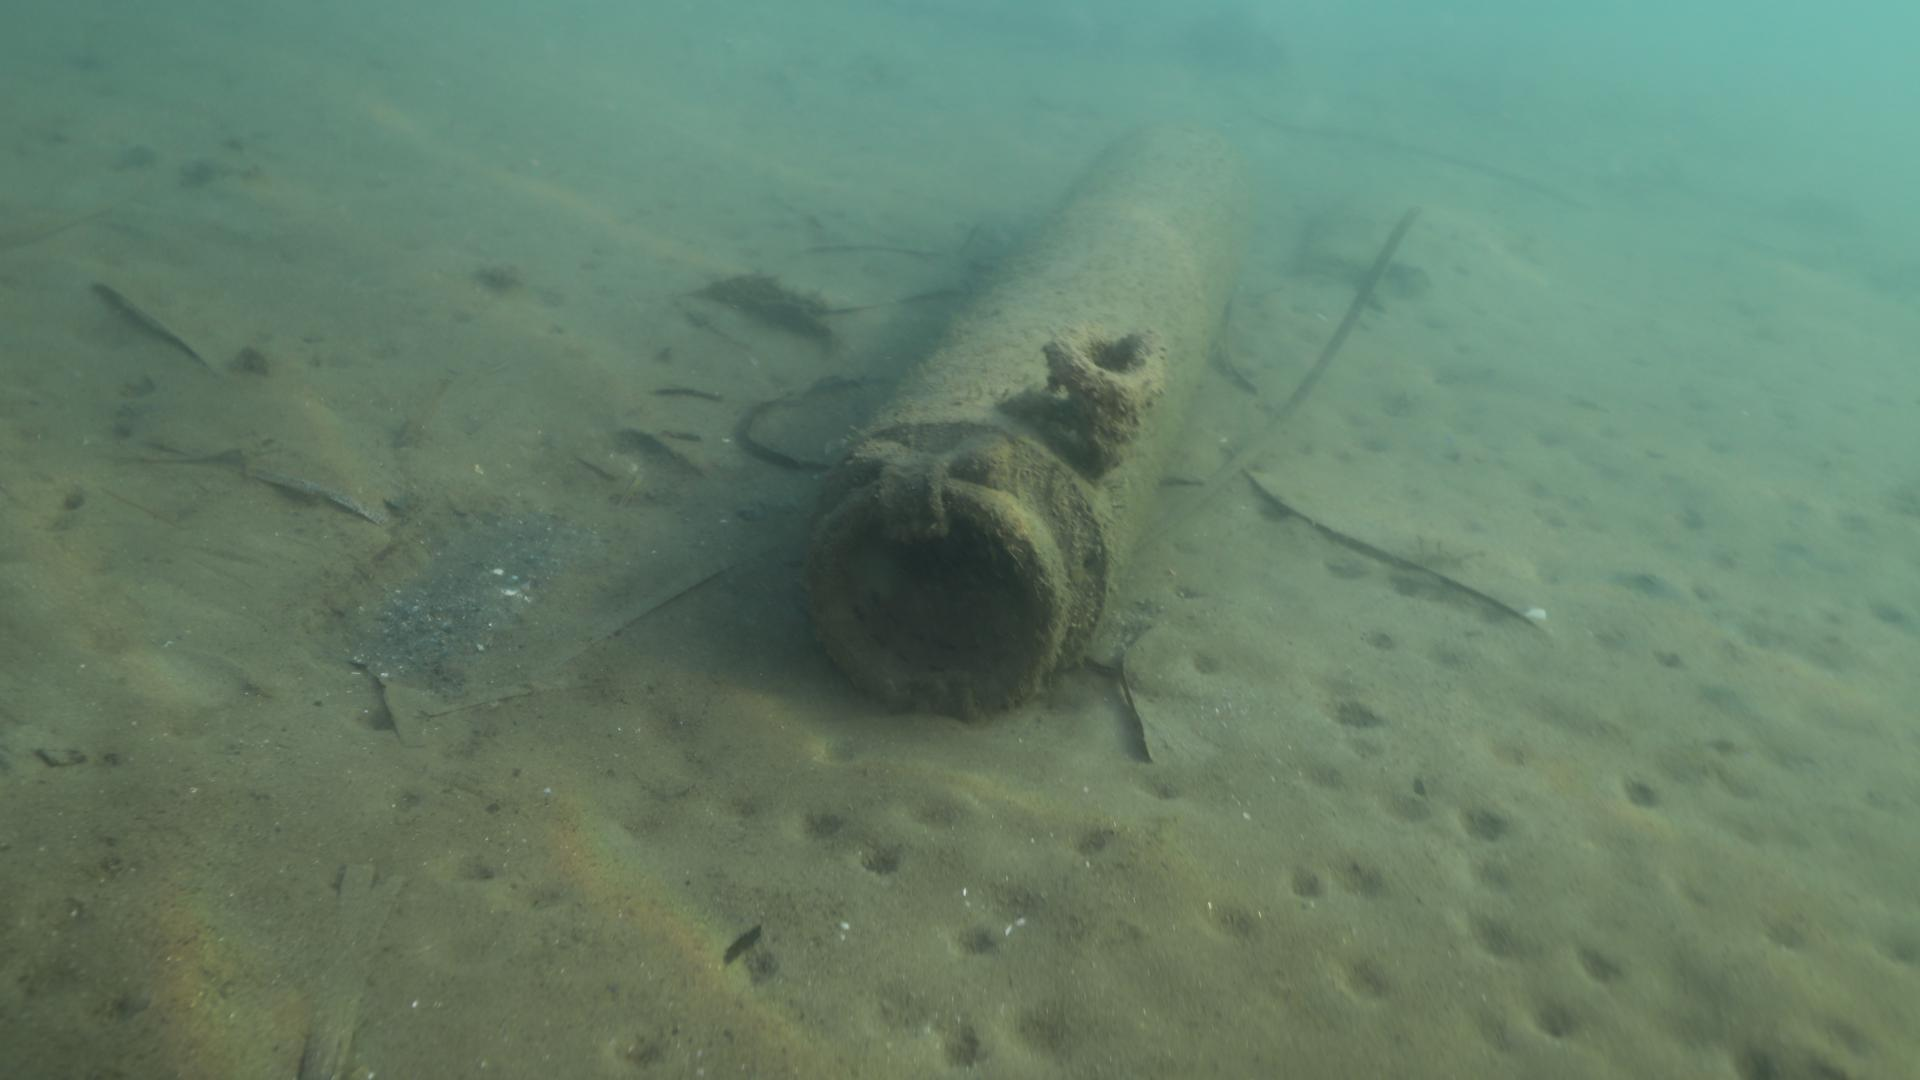eel fish trap: (804, 121, 1261, 713)
